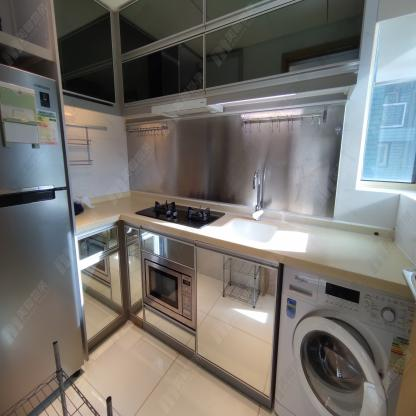Exhaust Hood: (151, 97, 223, 118)
Faucet: (249, 160, 265, 221)
Fridge: (0, 62, 86, 416)
Microwave: (141, 250, 195, 335)
Sink: (205, 212, 292, 254)
Stove: (124, 197, 232, 234)
Washing Machine: (273, 264, 416, 415)
